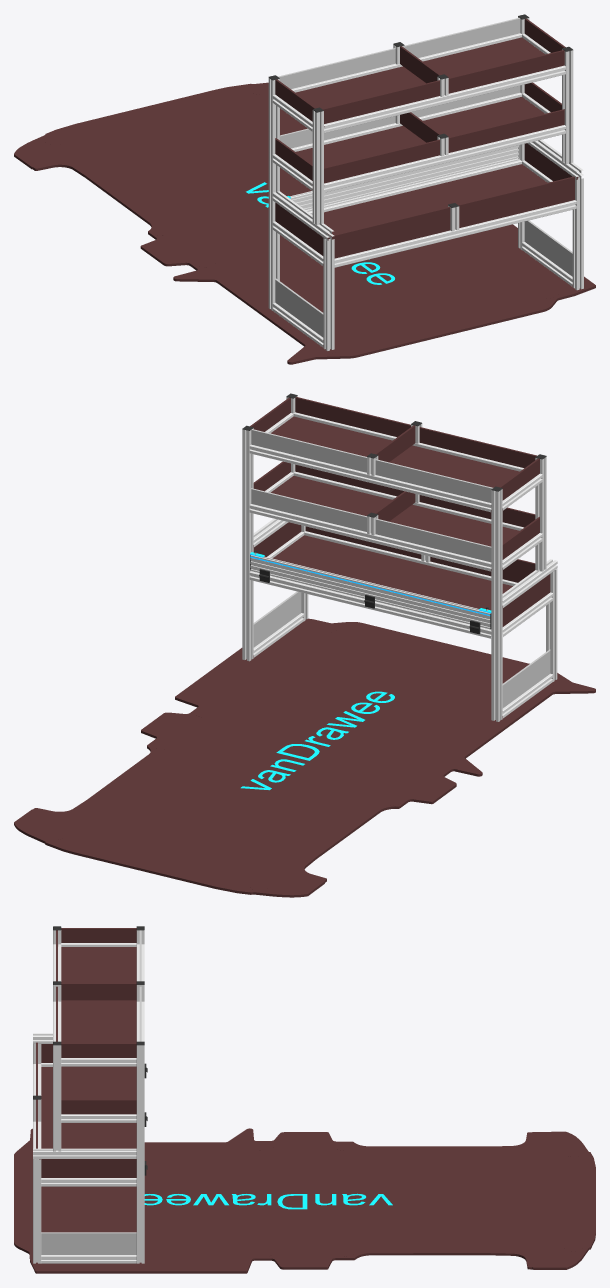
The model's file is vd_export_regalova_vestavba_vw_transporter_t6_l2_446c8739.glb.
3 views of the same model, one above another, from view 1: azimuth 30°, elevation 25°; view 2: azimuth 150°, elevation 25°; view 3: azimuth 270°, elevation 25° (orthographic). The views are drawn at different scales.
Parts seen in each view (by area): view 1: SomeName041_Mesh_14035, PR10_1266x220 (×2), SL40x40x1267_Zx2 (×3), PR10_1266x291, SL40x40x1267_Zx2_2 (×3), PR10_635x89_2 (×2), PR10_635x89 (×2), 20x80x1258, CUB10_635x89_2 (×2), PR10_635x130_2, PR10_635x130, CUB10_635x89 (×2) (+13 smaller); view 2: SomeName041_Mesh_14035, PR10_1266x220 (×2), PR10_1266x291, SL40x40x1267_Zx2_2 (×3), SL40x40x1180_noha (×2), SL40x40x1267_Zx2 (×3), 20x80x1258, CUB10_635x89_2 (×2), CUB10_635x89 (×2), PR10_635x89 (×2), PR10_635x89_2 (×2), CUB10_490x130 (×2) (+9 smaller); view 3: SomeName041_Mesh_14035, PR10_1266x220 (×2), PR10_1266x291, PR10_220x89 (×2), CUB10_490x130, SL40x40x1180_noha, PR10_291x130_2, logo, SL40x40x199_Zx2_2 (×2), PR10_220x89_2, PR10_220x89_3, SL40x40x507_Zx1 (+6 smaller).
Boxes of the visible parts, box(x1,y1,x2,y2) form: SomeName041_Mesh_14035: box(14, 82, 595, 364); PR10_1266x220 (×2): box(296, 37, 544, 167); SL40x40x1267_Zx2 (×3): box(306, 65, 565, 214); PR10_1266x291: box(324, 164, 547, 238); SL40x40x1267_Zx2_2 (×3): box(291, 33, 576, 267); PR10_635x89_2 (×2): box(448, 50, 564, 152); PR10_635x89 (×2): box(322, 80, 439, 185); 20x80x1258: box(290, 145, 518, 209); CUB10_635x89_2 (×2): box(278, 48, 395, 148); PR10_635x130_2: box(329, 206, 450, 258); PR10_635x130: box(458, 176, 577, 227); CUB10_635x89 (×2): box(404, 17, 520, 117); SomeName041_Mesh_14035: box(14, 618, 595, 897); PR10_1266x220 (×2): box(271, 416, 519, 546); PR10_1266x291: box(272, 535, 512, 610); SL40x40x1267_Zx2_2 (×3): box(249, 444, 517, 586); SL40x40x1180_noha (×2): box(242, 428, 502, 721); SL40x40x1267_Zx2 (×3): box(249, 412, 523, 638); 20x80x1258: box(250, 555, 490, 628); CUB10_635x89_2 (×2): box(375, 459, 492, 564); CUB10_635x89 (×2): box(251, 429, 366, 531); PR10_635x89 (×2): box(419, 427, 536, 527); PR10_635x89_2 (×2): box(295, 397, 410, 496); CUB10_490x130 (×2): box(253, 591, 550, 708); SomeName041_Mesh_14035: box(14, 1128, 595, 1273); PR10_1266x220 (×2): box(61, 947, 136, 1099); PR10_1266x291: box(41, 1067, 136, 1148); PR10_220x89 (×2): box(61, 1043, 136, 1114); CUB10_490x130: box(41, 1232, 136, 1254); SL40x40x1180_noha: box(136, 1045, 144, 1263); PR10_291x130_2: box(39, 1159, 136, 1177); logo: box(144, 1193, 392, 1209); SL40x40x199_Zx2_2 (×2): box(61, 1058, 136, 1122); PR10_220x89_2: box(61, 983, 136, 1000); PR10_220x89_3: box(61, 928, 136, 942); SL40x40x507_Zx1: box(33, 1148, 136, 1158).
Bounding box in the file's own units: 1656 × 1216 × 2850.
